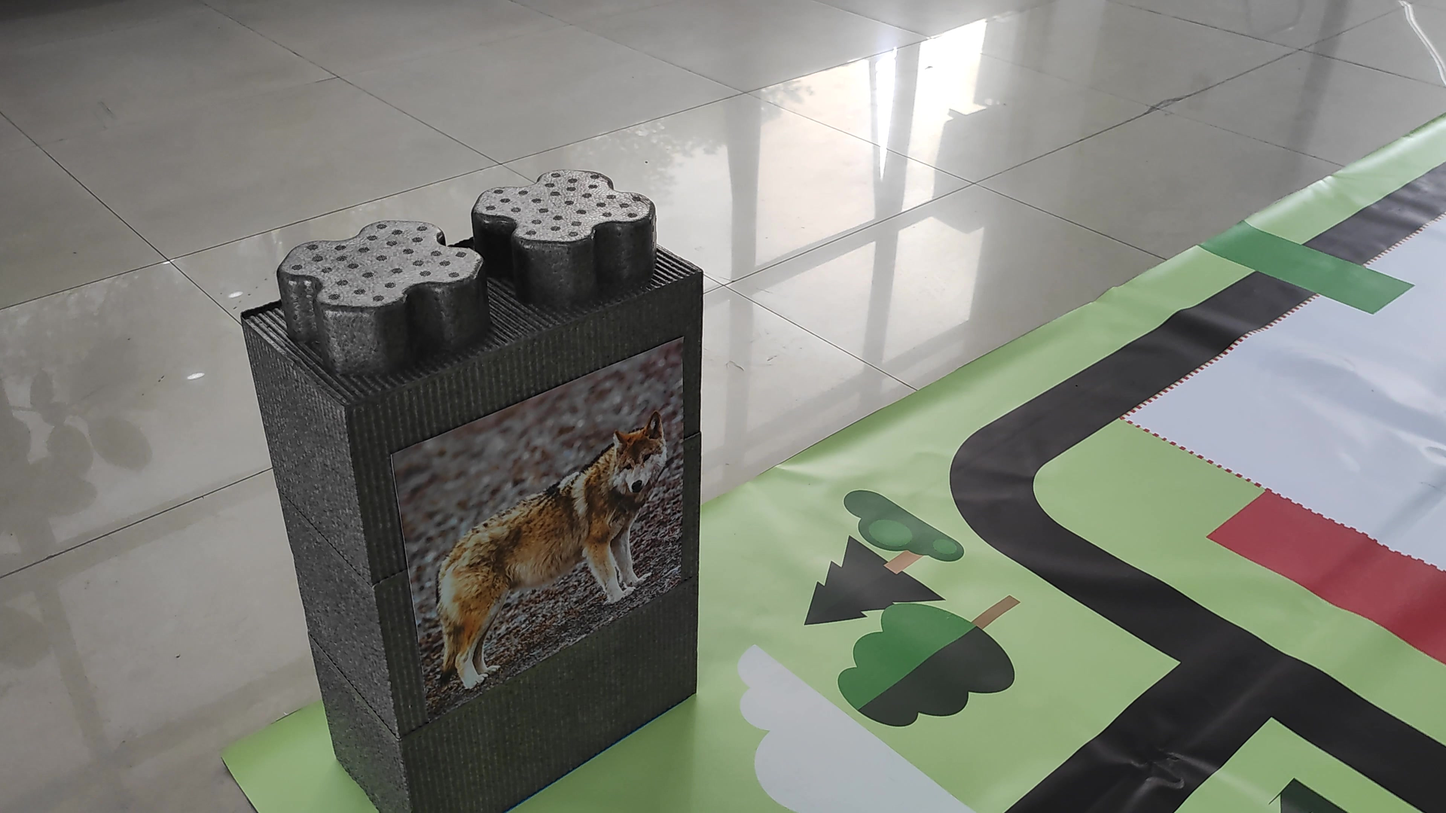wolf: (406, 419, 676, 692)
